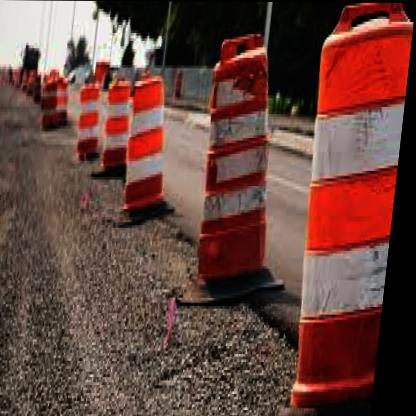obstacle: (192, 41, 294, 282), (123, 81, 184, 206)
